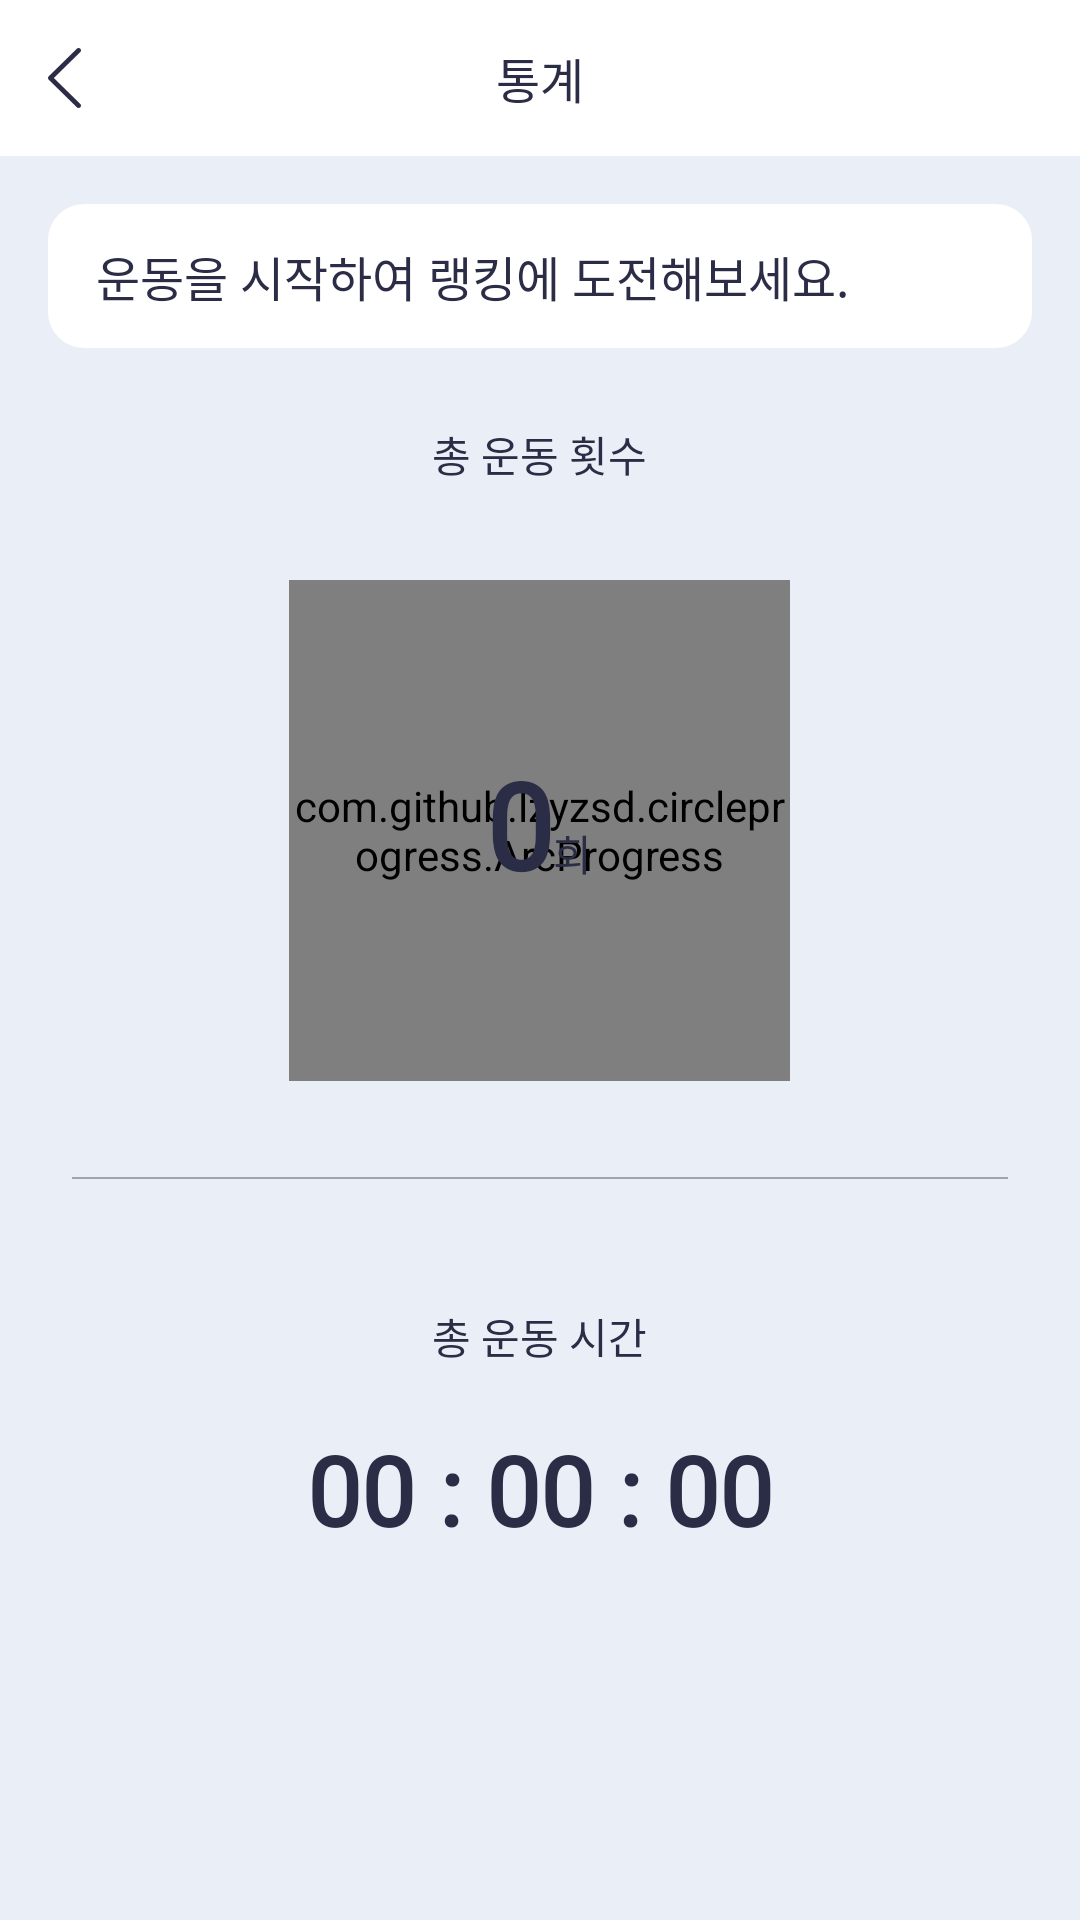

Screen size 1080 x 1920. Icon name, then its box in pixels as (x1, y1, x2, y2):
arrow left navy: (48, 48, 81, 108)
